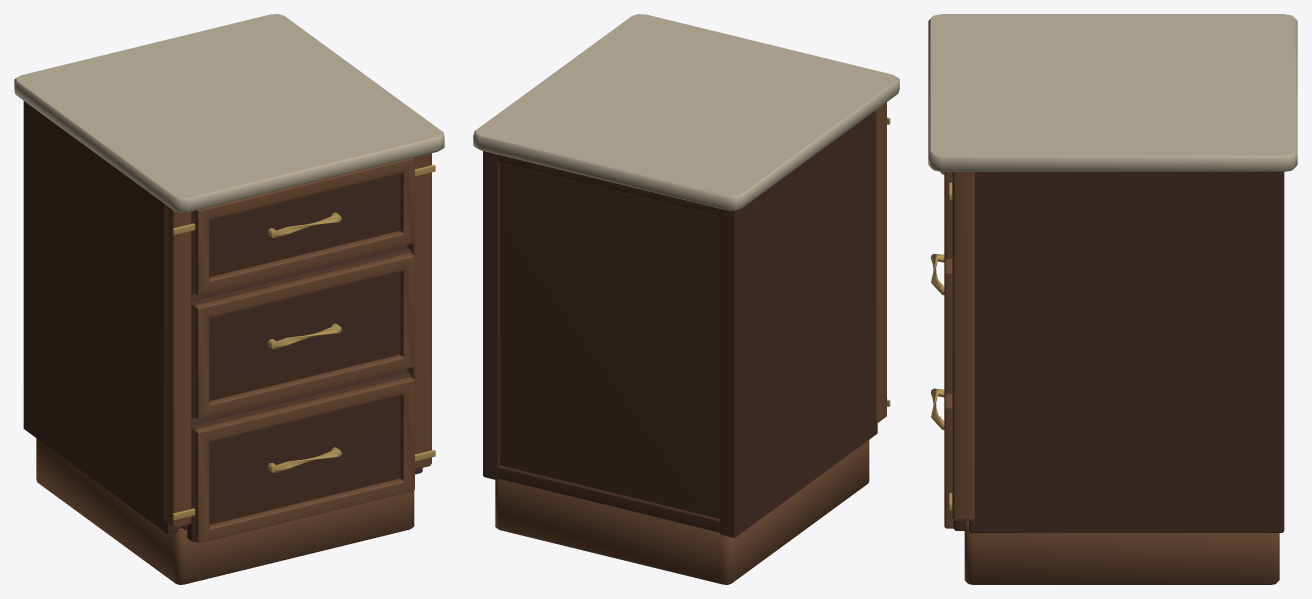
File: rpg-mansion-kitchen-three-drawer-600-01.glb
3 views of the same model, side by side, from view 1: azimuth 30°, elevation 25°; view 2: azimuth 150°, elevation 25°; view 3: azimuth 270°, elevation 25° (orthographic). The views are drawn at different scales.
Parts seen in each view (by area): view 1: rpg-mansion-kitchen-three-drawer-600-01; view 2: rpg-mansion-kitchen-three-drawer-600-01; view 3: rpg-mansion-kitchen-three-drawer-600-01.
Boxes of the visible parts, box(x1,y1,x2,y2) form: rpg-mansion-kitchen-three-drawer-600-01: box(14, 14, 444, 584); rpg-mansion-kitchen-three-drawer-600-01: box(473, 14, 899, 584); rpg-mansion-kitchen-three-drawer-600-01: box(928, 14, 1297, 584).
Bounding box in the file's own units: 0.6 × 0.85 × 0.65.
